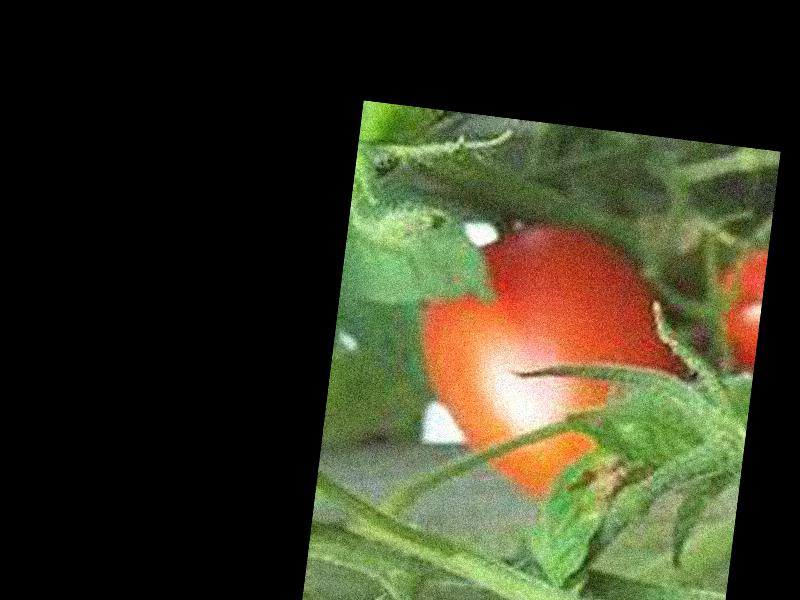Tomato: (401, 211, 689, 507)
